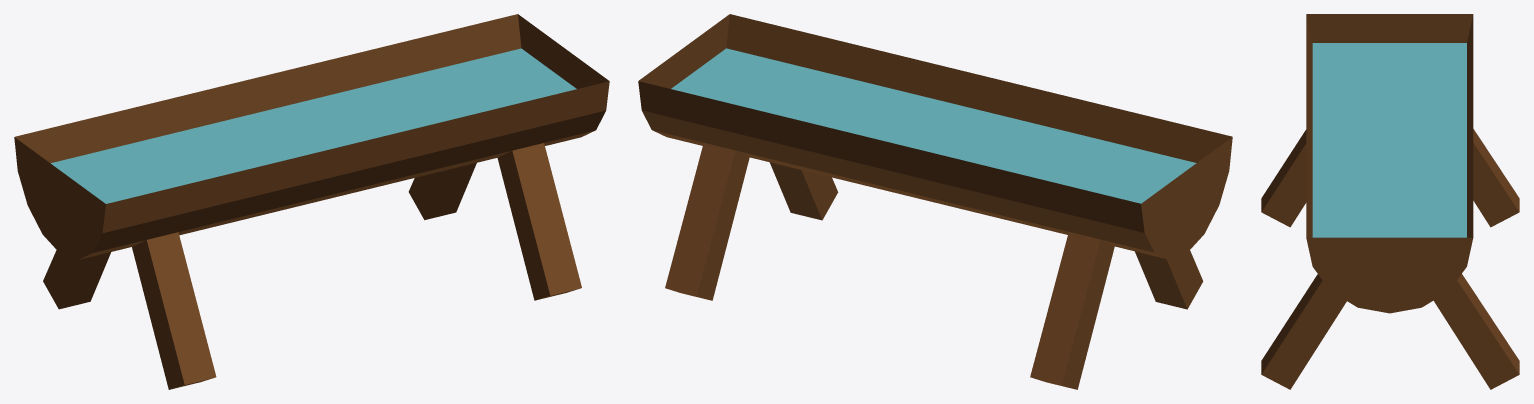
The model's file is abbeveratoio.fbx.
The picture shows the model from 3 angles, left to right: view 1: azimuth 30°, elevation 25°; view 2: azimuth 150°, elevation 25°; view 3: azimuth 270°, elevation 25°; orthographic projection. The views are drawn at different scales.
Visible parts, largest first — view 1: Circle; view 2: Circle; view 3: Circle.
Boxes of the visible parts, x1,y1,x2,y2 form: Circle: (14, 14, 609, 389); Circle: (638, 14, 1232, 389); Circle: (1261, 14, 1519, 389).
Size of the model in its own units: 634 by 232 by 309.
